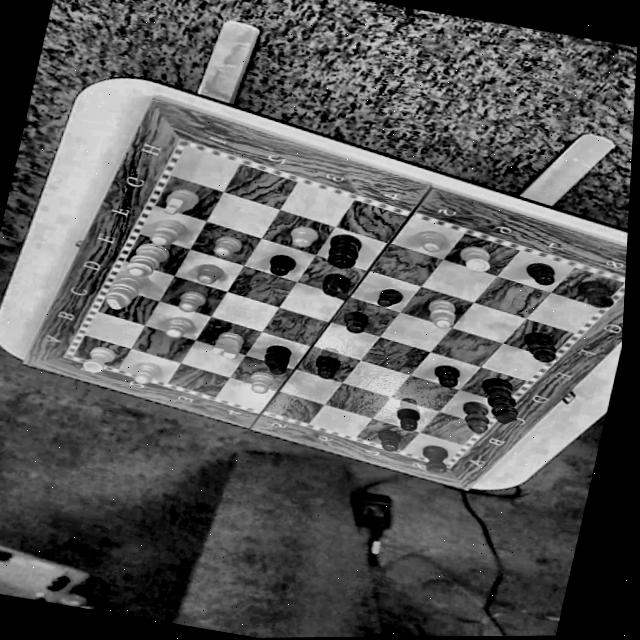chessboard: (69, 146, 621, 463)
